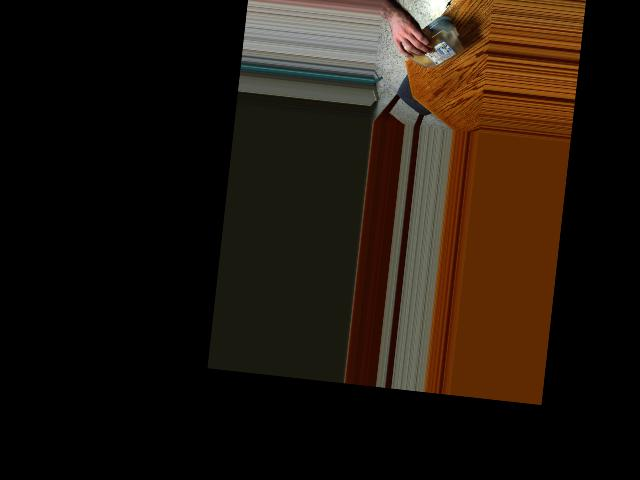cheese: (396, 13, 466, 71)
